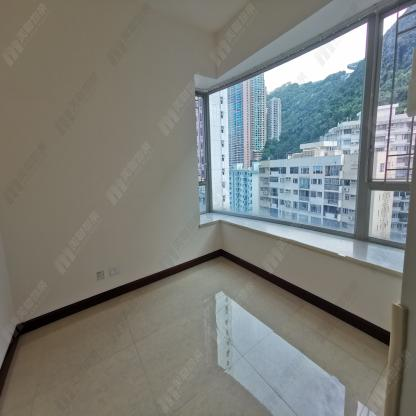Windowsill: (193, 0, 416, 275)
